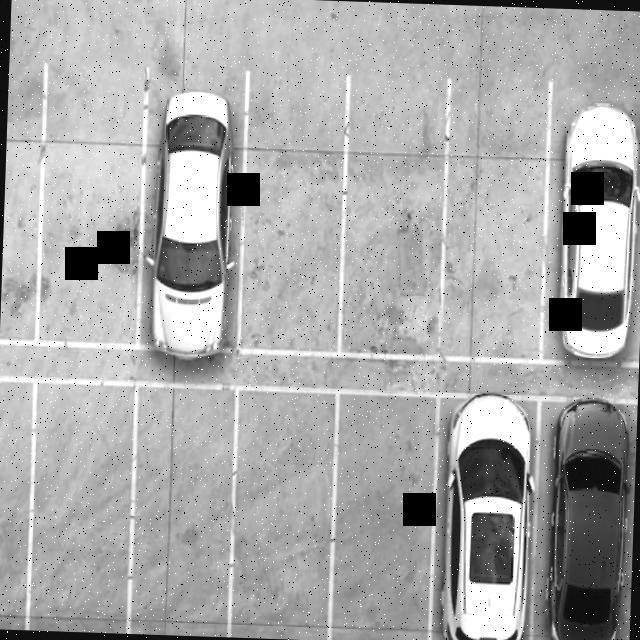car: (134, 66, 252, 362), (537, 78, 640, 369), (424, 388, 542, 640), (527, 398, 637, 640)
free: (336, 71, 453, 364), (436, 74, 554, 364), (31, 70, 149, 352), (235, 71, 350, 358), (225, 387, 341, 640), (23, 384, 139, 634), (124, 385, 239, 637), (323, 395, 439, 640)
